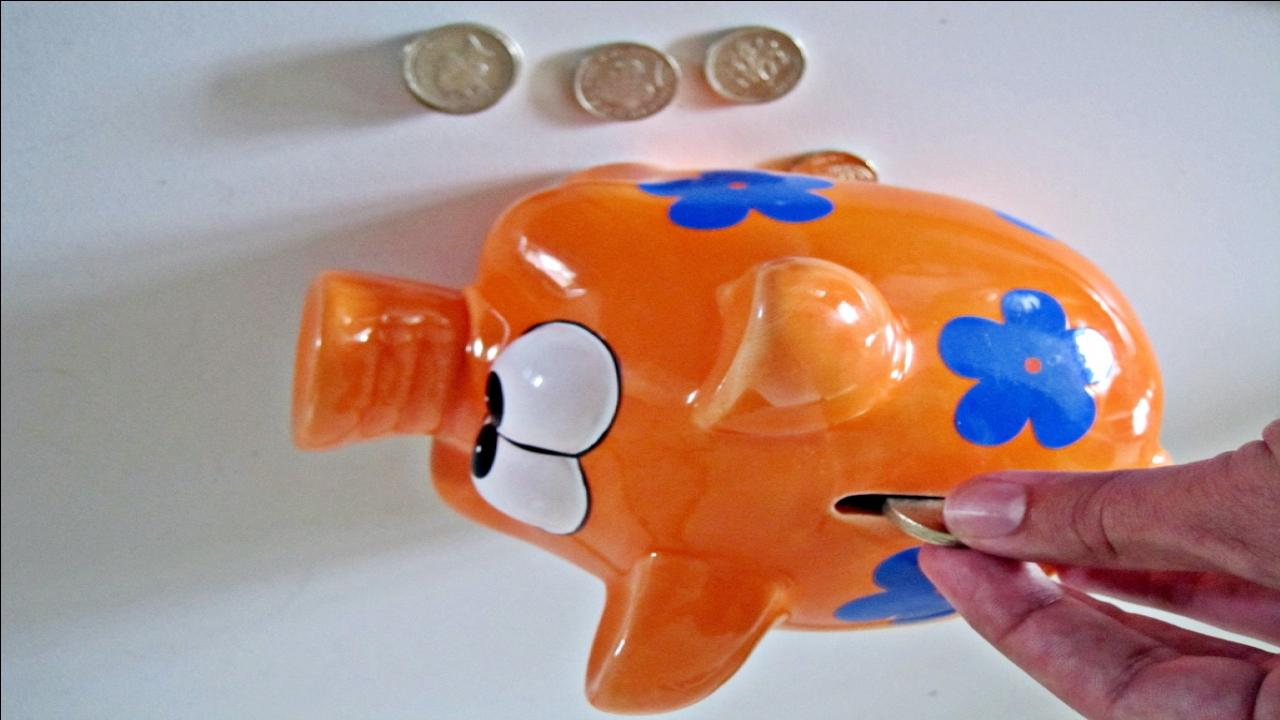coin: (399, 22, 522, 116), (570, 38, 682, 122), (698, 22, 806, 108), (880, 498, 964, 548)
